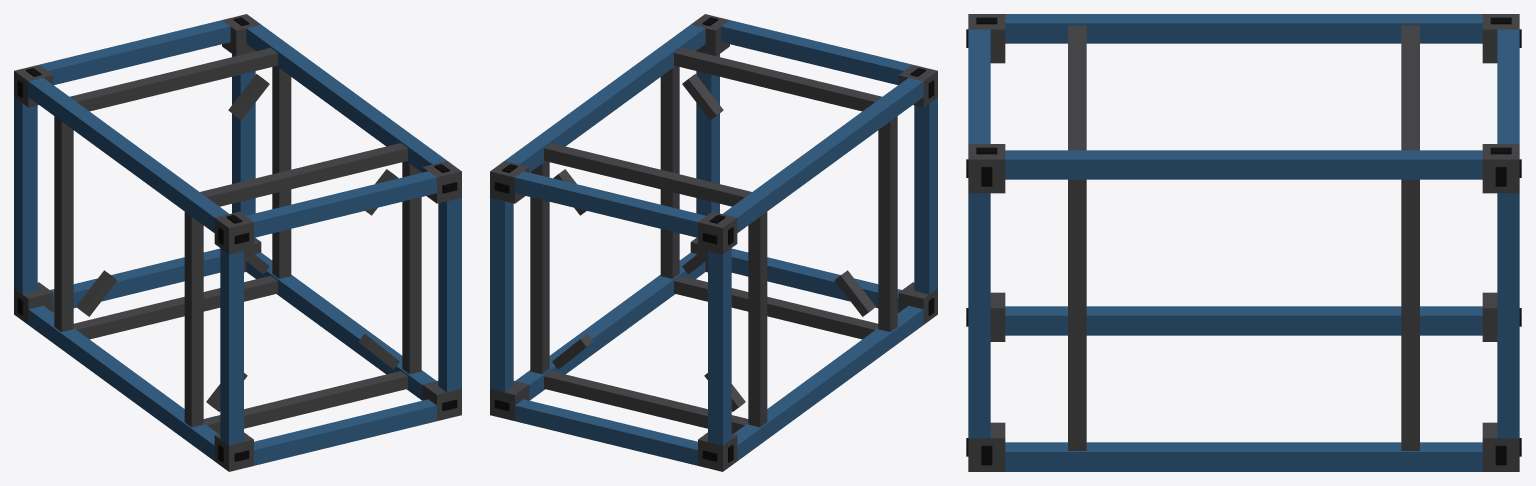
The model's file is jcharge_frame.obj.
The picture shows the model from 3 angles, left to right: view 1: azimuth 30°, elevation 25°; view 2: azimuth 150°, elevation 25°; view 3: azimuth 270°, elevation 25°; orthographic projection. The views are drawn at different scales.
Parts seen in each view (by area): view 1: jcharge_frame; view 2: jcharge_frame; view 3: jcharge_frame.
Boxes of the visible parts, x1,y1,x2,y2 form: jcharge_frame: (14, 14, 461, 471); jcharge_frame: (490, 14, 937, 471); jcharge_frame: (966, 14, 1521, 471).
Bounding box in the file's own units: 0.94 × 0.94 × 1.5.
